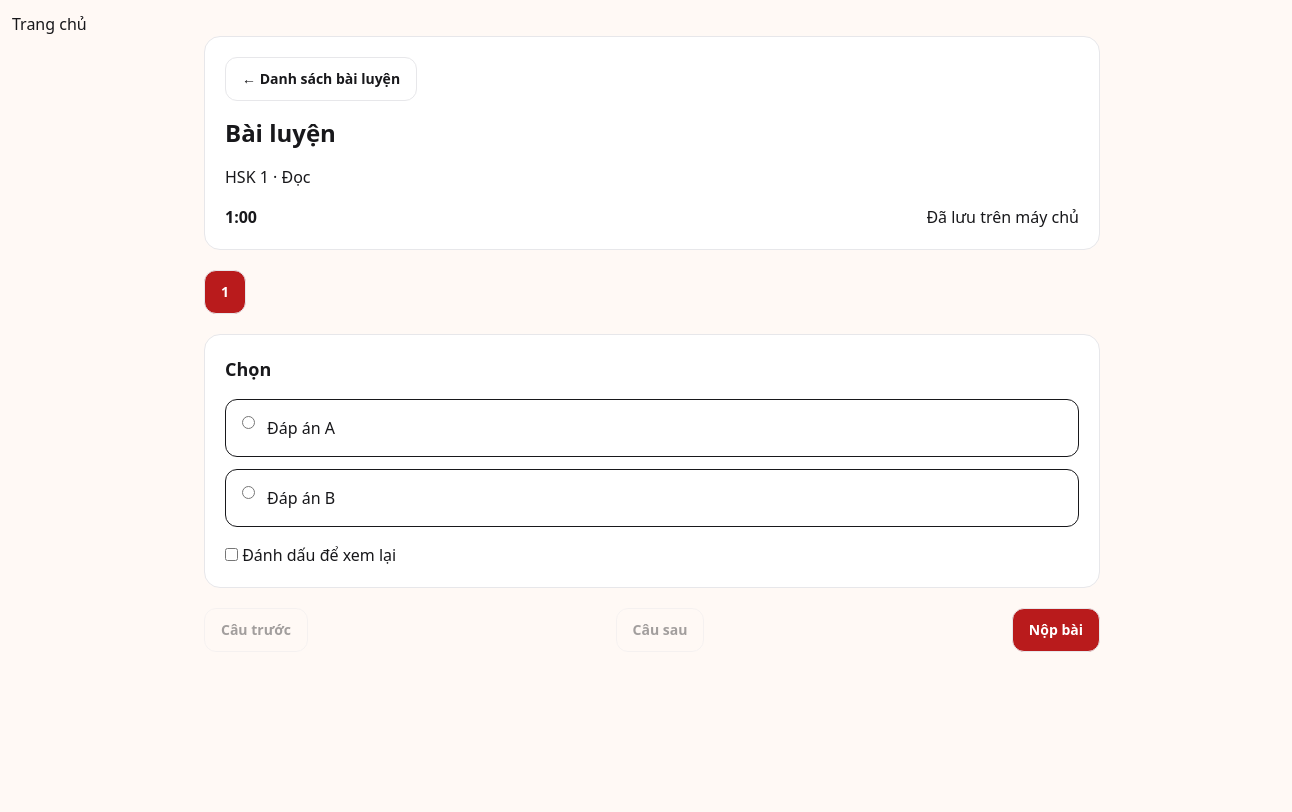
Test: submits on expiry even after saving failed, without silently counting late answers
This screenshot has width=1292, height=812.
Step 1. Click the radio button labelled "Đáp án A" → (248, 422), box [242,416,255,429]
Wait 60000 ms
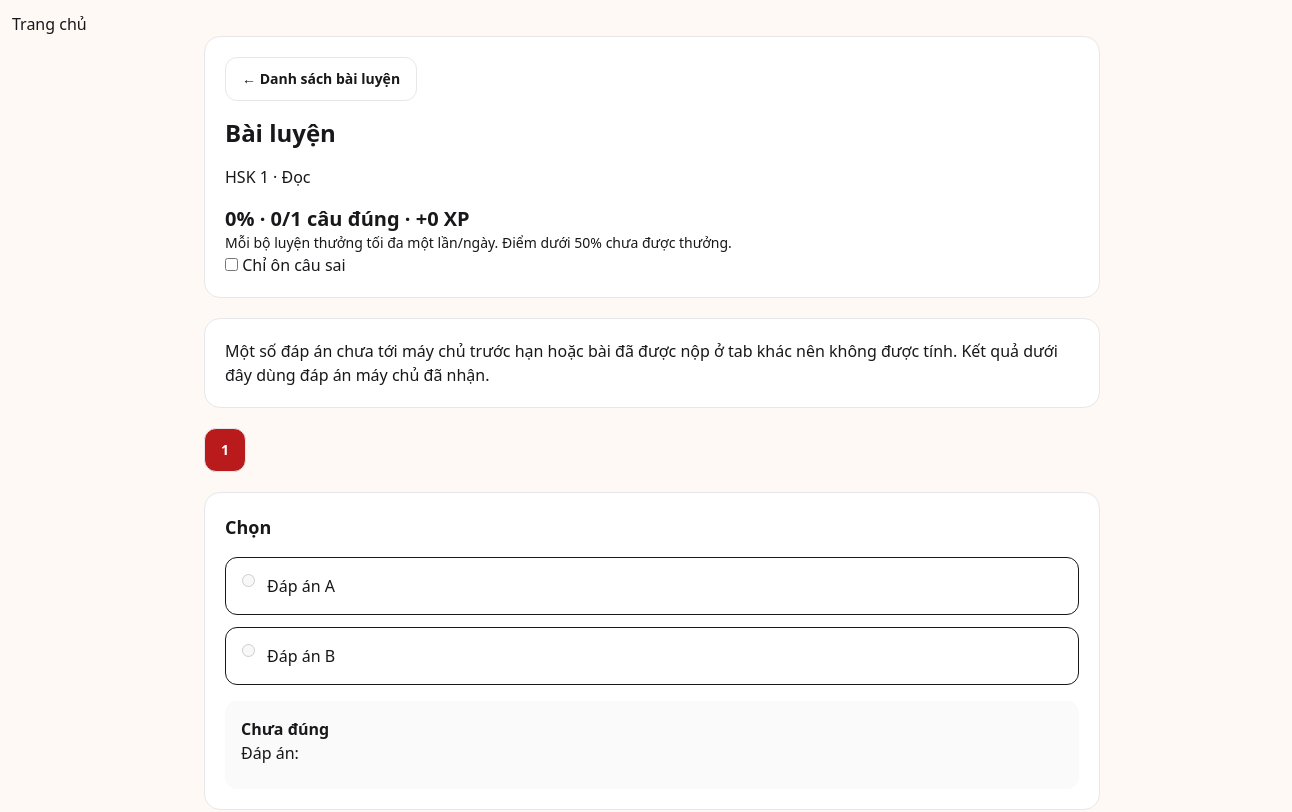
Check: the text "0% · 0/1 câu đúng · +0 XP" is shown, box [225,205,470,232]
Check: the message shows "chưa tới máy chủ", box [225,340,1058,386]
